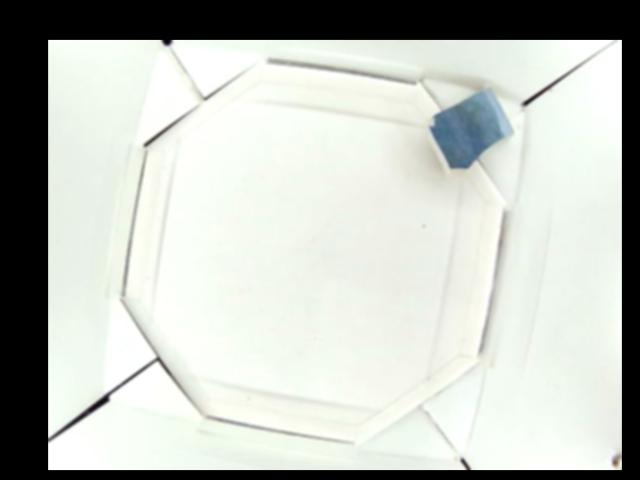China: (427, 88, 513, 173)
